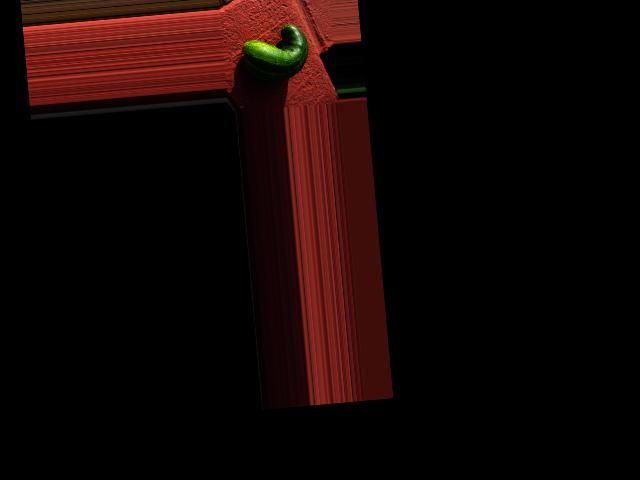cucumber: (240, 21, 310, 83)
